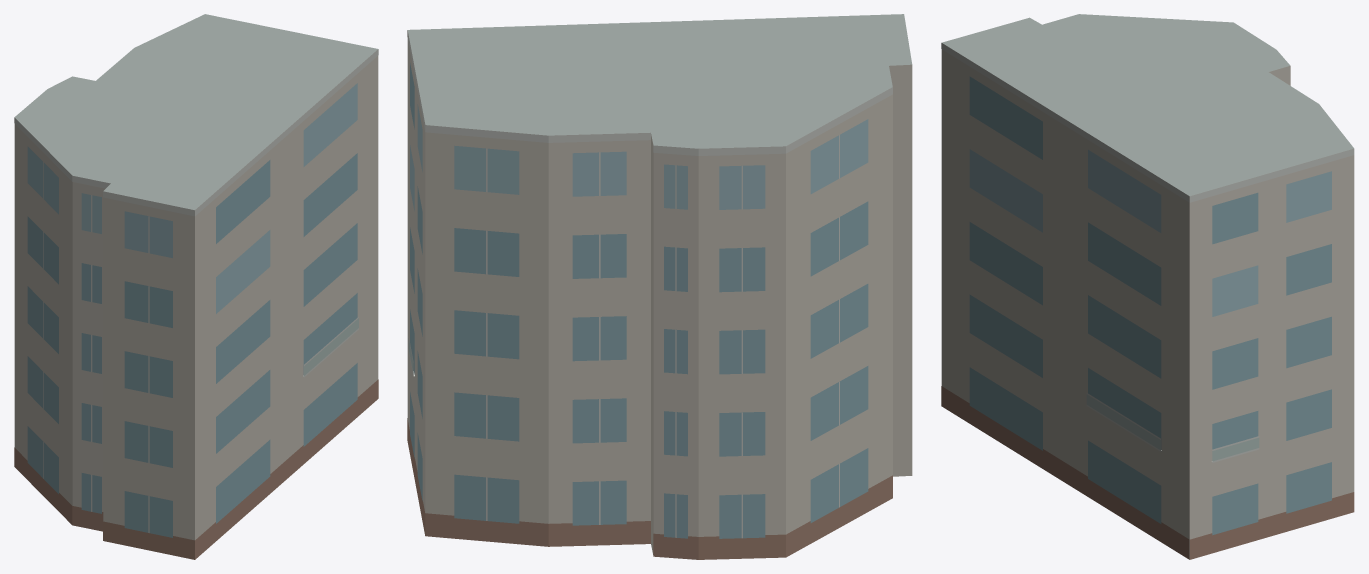
File: survey-upis-32529939.glb
3 renders of one model, left to right at view 1: azimuth 30°, elevation 25°; view 2: azimuth 150°, elevation 25°; view 3: azimuth 270°, elevation 25°, orthographic. The views are drawn at different scales.
Parts seen in each view (by area): view 1: survey-upis-32529939.tmp; view 2: survey-upis-32529939.tmp; view 3: survey-upis-32529939.tmp.
Part boxes in pixels (x1,y1,x2,y2): survey-upis-32529939.tmp: [14, 14, 378, 559]; survey-upis-32529939.tmp: [407, 14, 912, 559]; survey-upis-32529939.tmp: [941, 14, 1354, 559].
Size of the model in its own units: 14.74 by 13.7 by 14.11.
